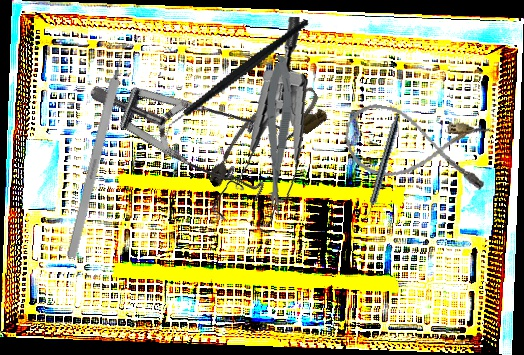Cannula: (192, 77, 333, 196), (338, 99, 496, 195)
Chopper: (141, 18, 330, 142)
Handpiece: (361, 112, 403, 224)
Hook Surgical: (66, 35, 131, 259)
Micro Scissor: (258, 54, 296, 215)
Speculum: (87, 8, 313, 242), (195, 16, 322, 238)
